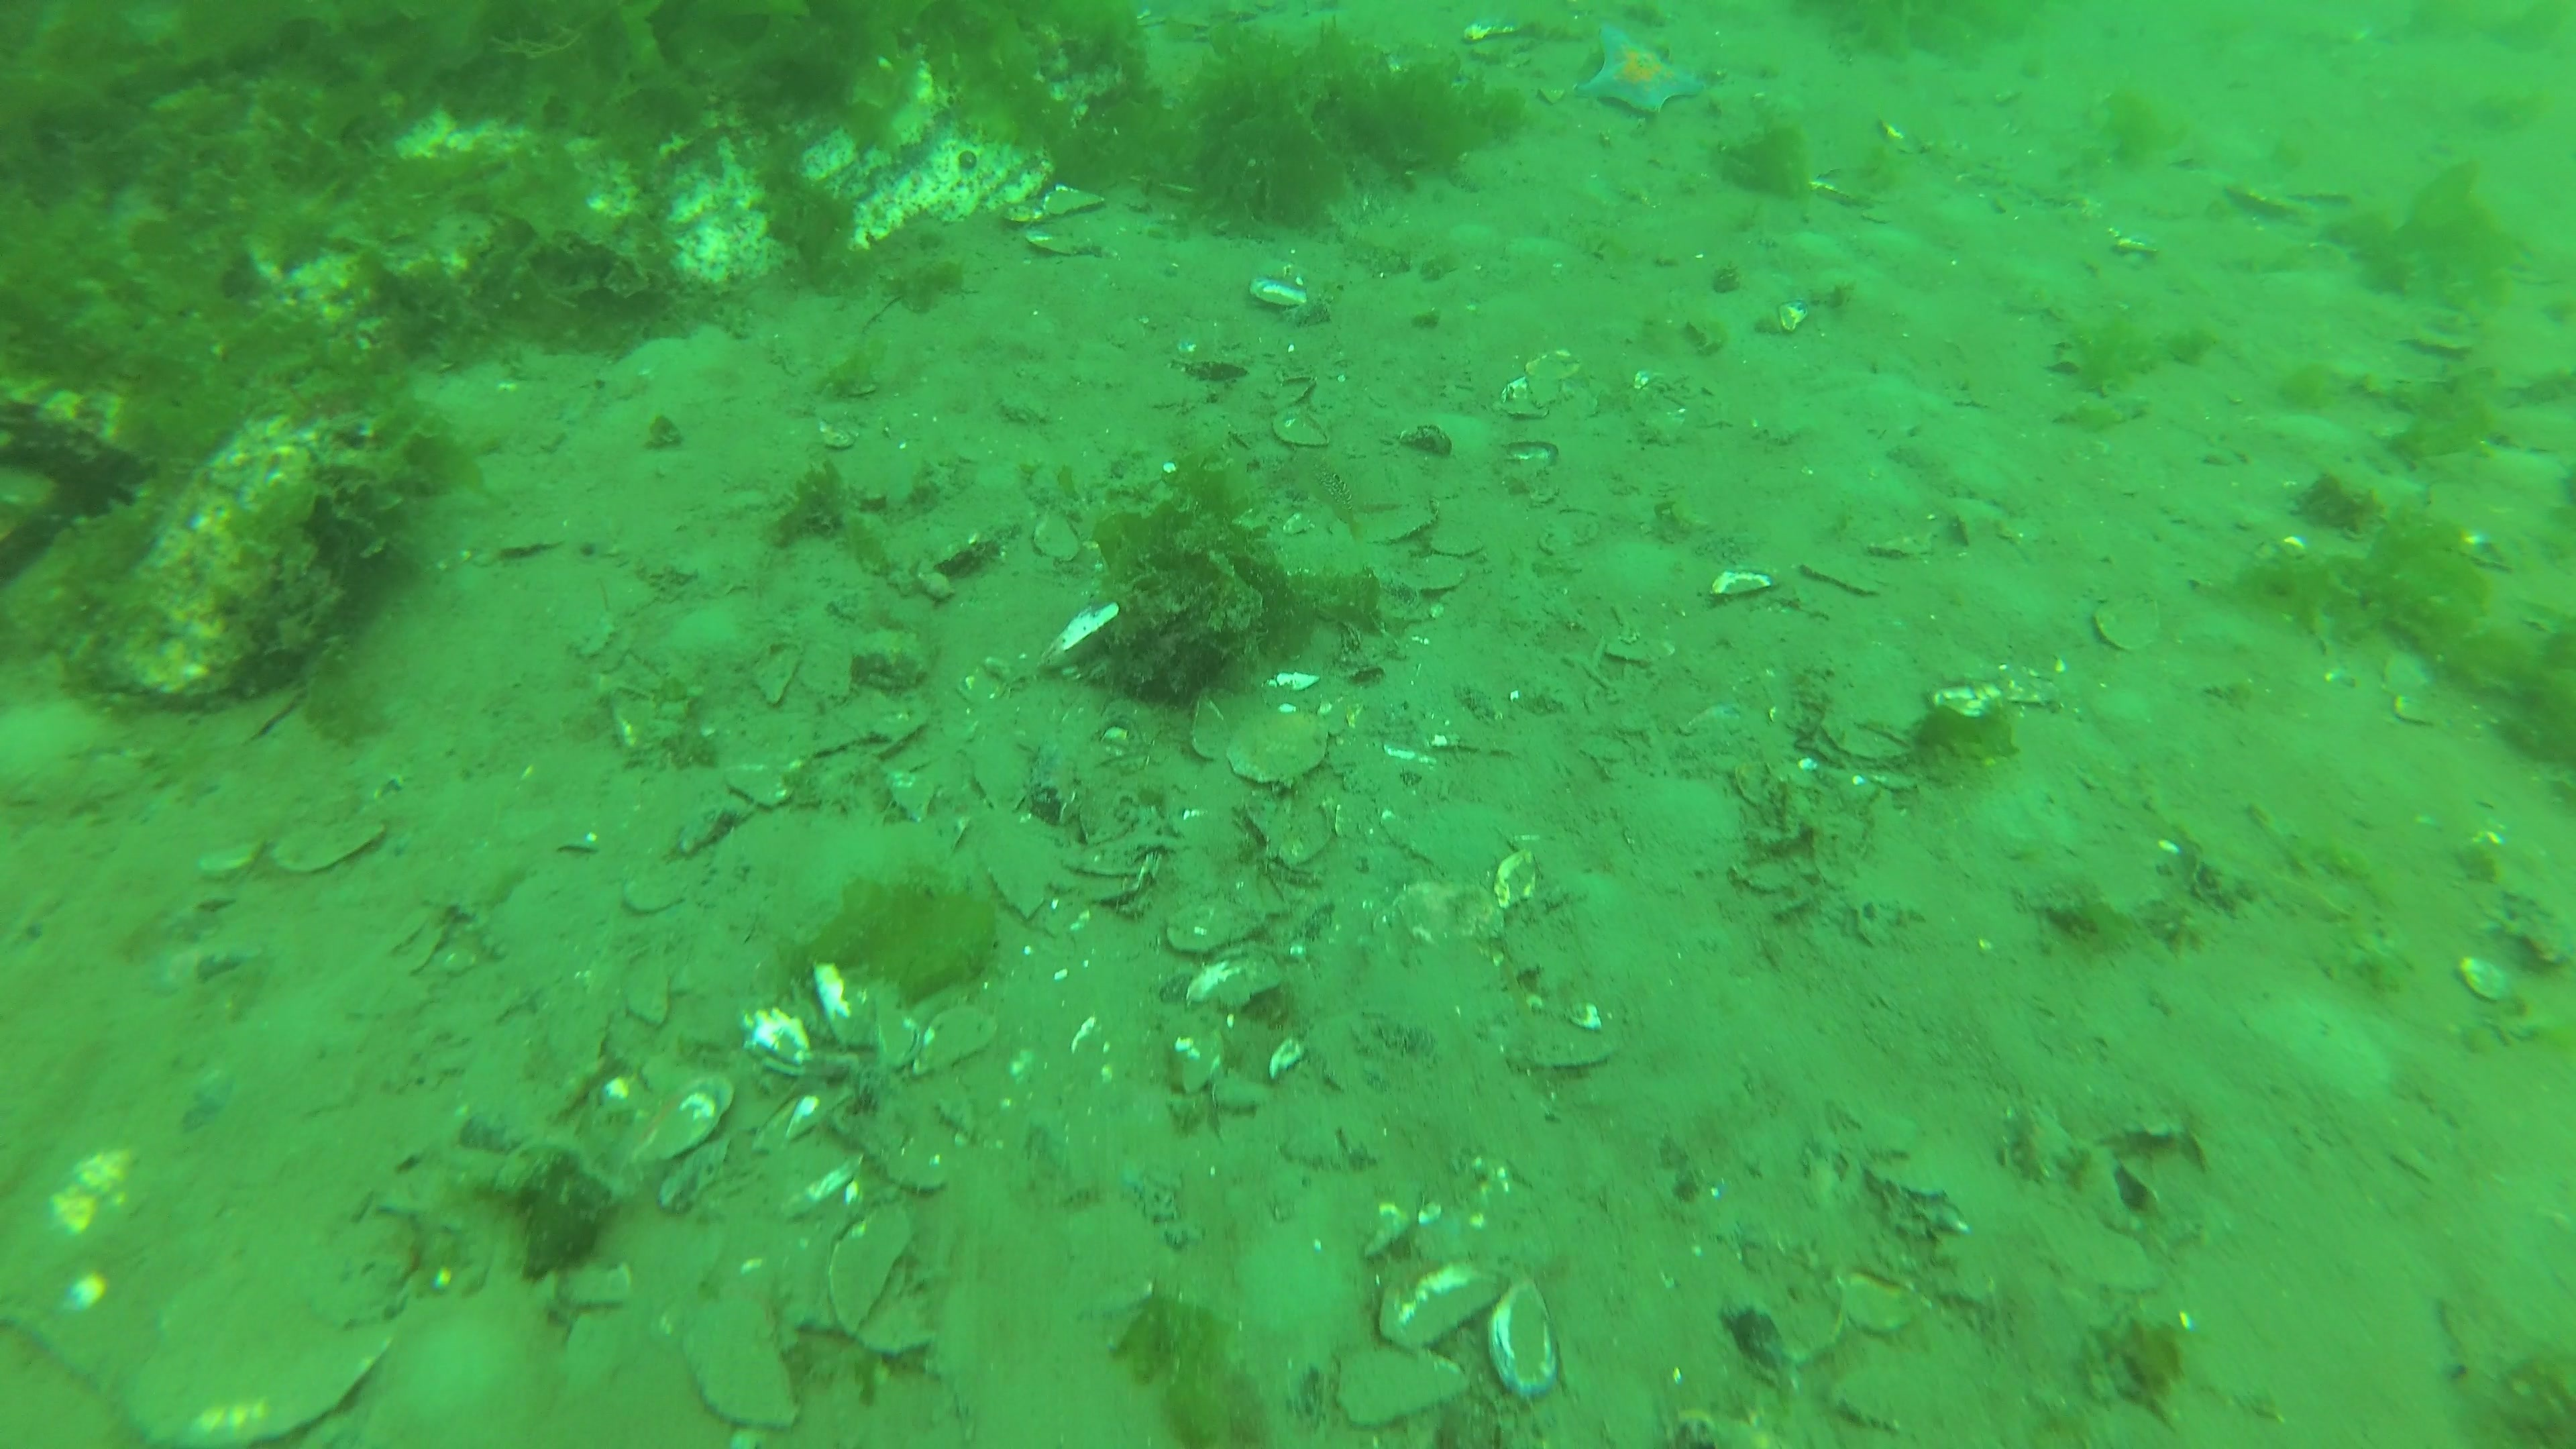starfish: (1576, 23, 1714, 127)
